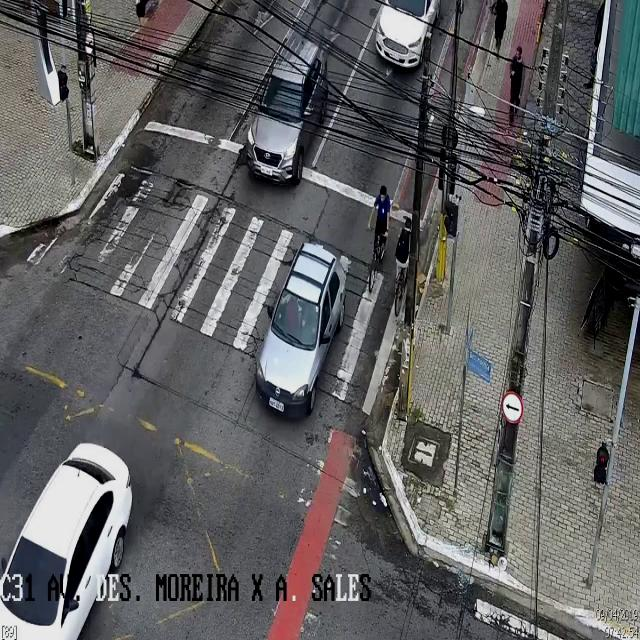Car: (1, 439, 132, 639), (254, 242, 344, 418), (246, 36, 328, 186), (374, 1, 438, 67)
